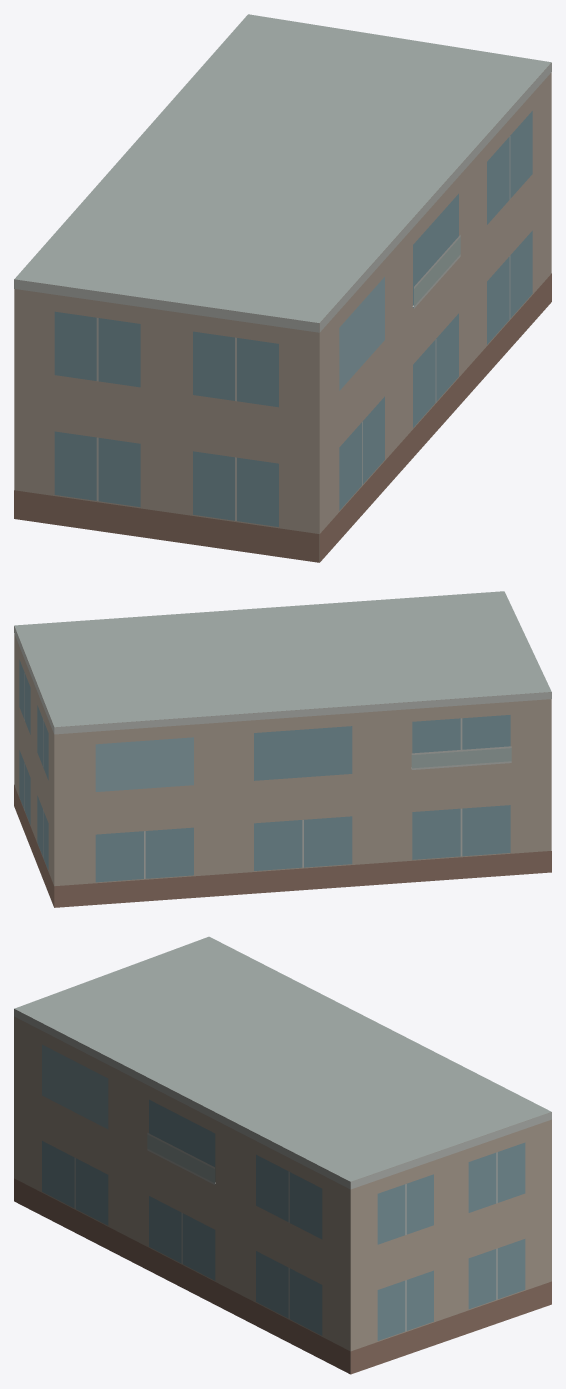
File: survey-upis-32774233.glb
3 views of the same model, one above another, from view 1: azimuth 30°, elevation 25°; view 2: azimuth 150°, elevation 25°; view 3: azimuth 270°, elevation 25° (orthographic). The views are drawn at different scales.
Visible parts, largest first — view 1: survey-upis-32774233.tmp; view 2: survey-upis-32774233.tmp; view 3: survey-upis-32774233.tmp.
Part boxes in pixels (box(x1,y1,x2,y2)): survey-upis-32774233.tmp: box(14, 14, 551, 562); survey-upis-32774233.tmp: box(14, 591, 551, 907); survey-upis-32774233.tmp: box(14, 936, 551, 1374).
Size of the model in its own units: 16.68 by 6.1 by 15.44.
